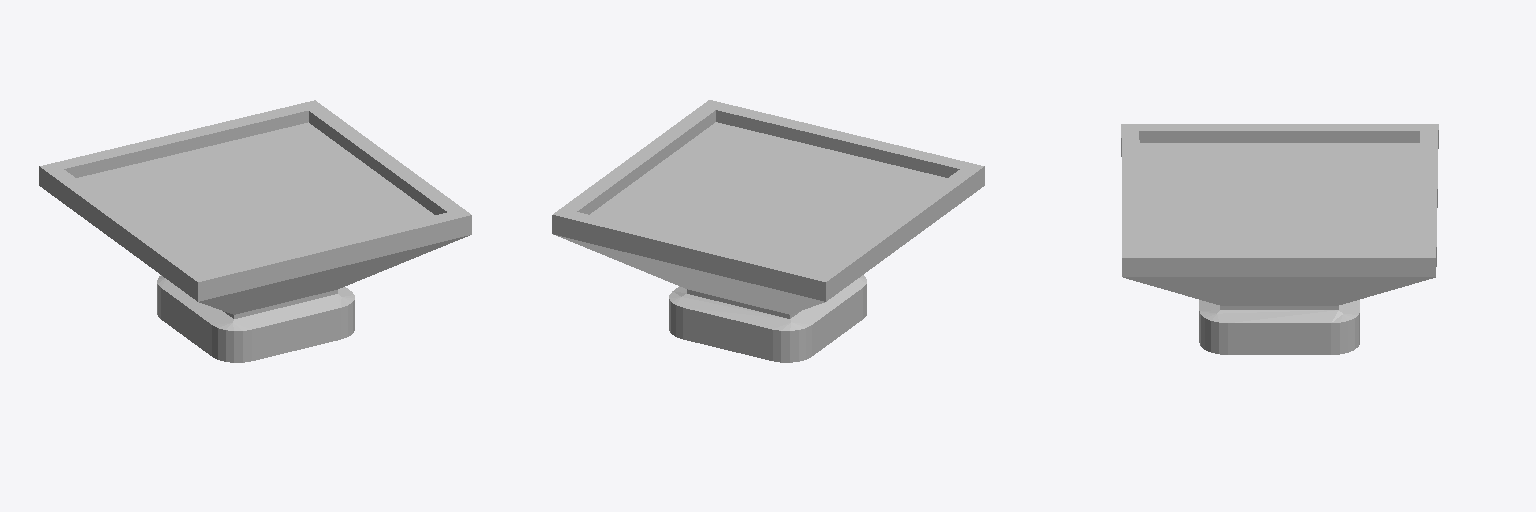
File: screen.obj
3 renders of one model, left to right at view 1: azimuth 30°, elevation 25°; view 2: azimuth 150°, elevation 25°; view 3: azimuth 270°, elevation 25°, orthographic.
Visible parts, largest first — view 1: 立方体; view 2: 立方体; view 3: 立方体.
Boxes of the visible parts, box(x1,y1,x2,y2) form: 立方体: box(39, 100, 471, 362); 立方体: box(552, 100, 984, 362); 立方体: box(1121, 124, 1438, 354).
Size of the model in its own units: 0.7898 by 0.3577 by 0.7898.